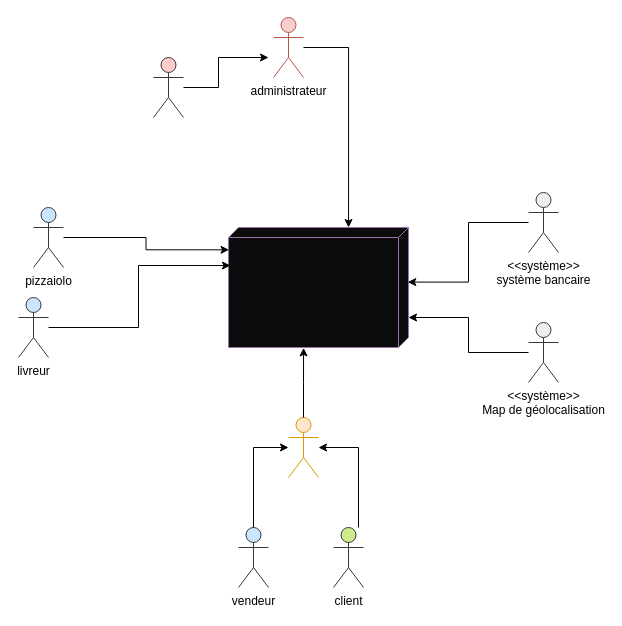
The diagram is 622 pixels wide and 626 high, and some of its shapes have lost their labels. Here are the shapes that lost their labels. From the top down, the box of each, then its label:
(152, 56, 184, 118): directeur
(228, 226, 408, 348): System
(288, 416, 318, 478): acheteur
